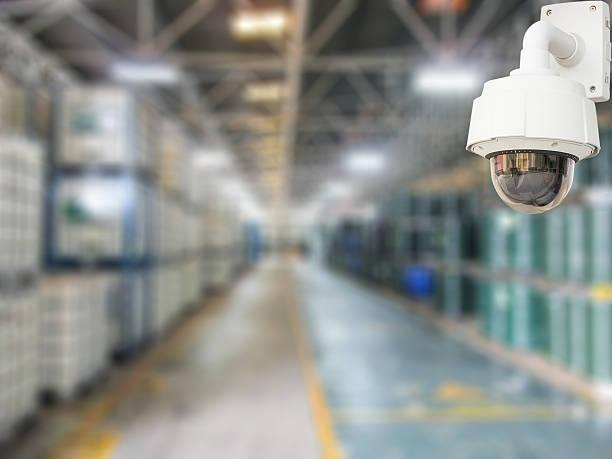camera: (451, 44, 608, 253)
